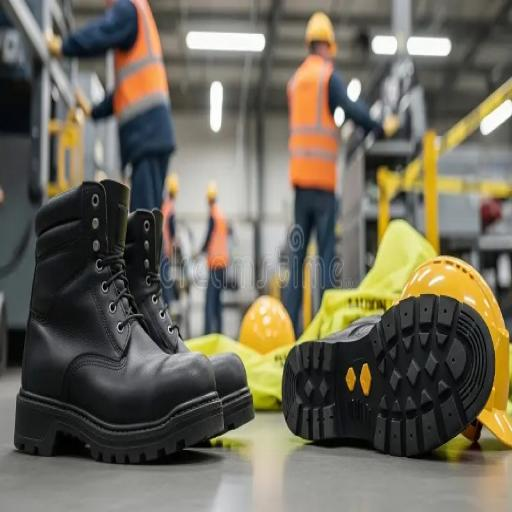safety_boots: (15, 244, 217, 461), (269, 291, 497, 468)
